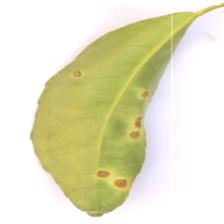canker: (66, 62, 167, 201)
